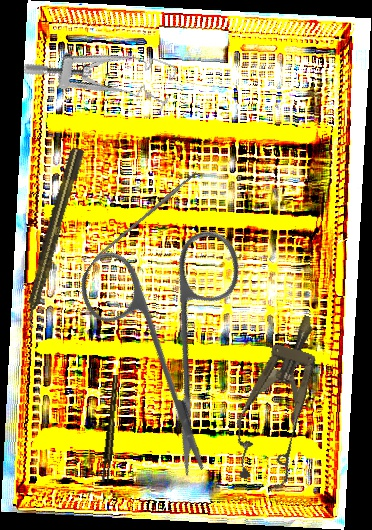Handpiece: (18, 146, 87, 329)
Iris Scissors: (22, 182, 319, 483)
Scalpel Handle: (96, 171, 199, 258)
Speculum: (220, 305, 342, 493), (20, 15, 183, 127)
Tissue Forceps: (98, 374, 124, 484)
